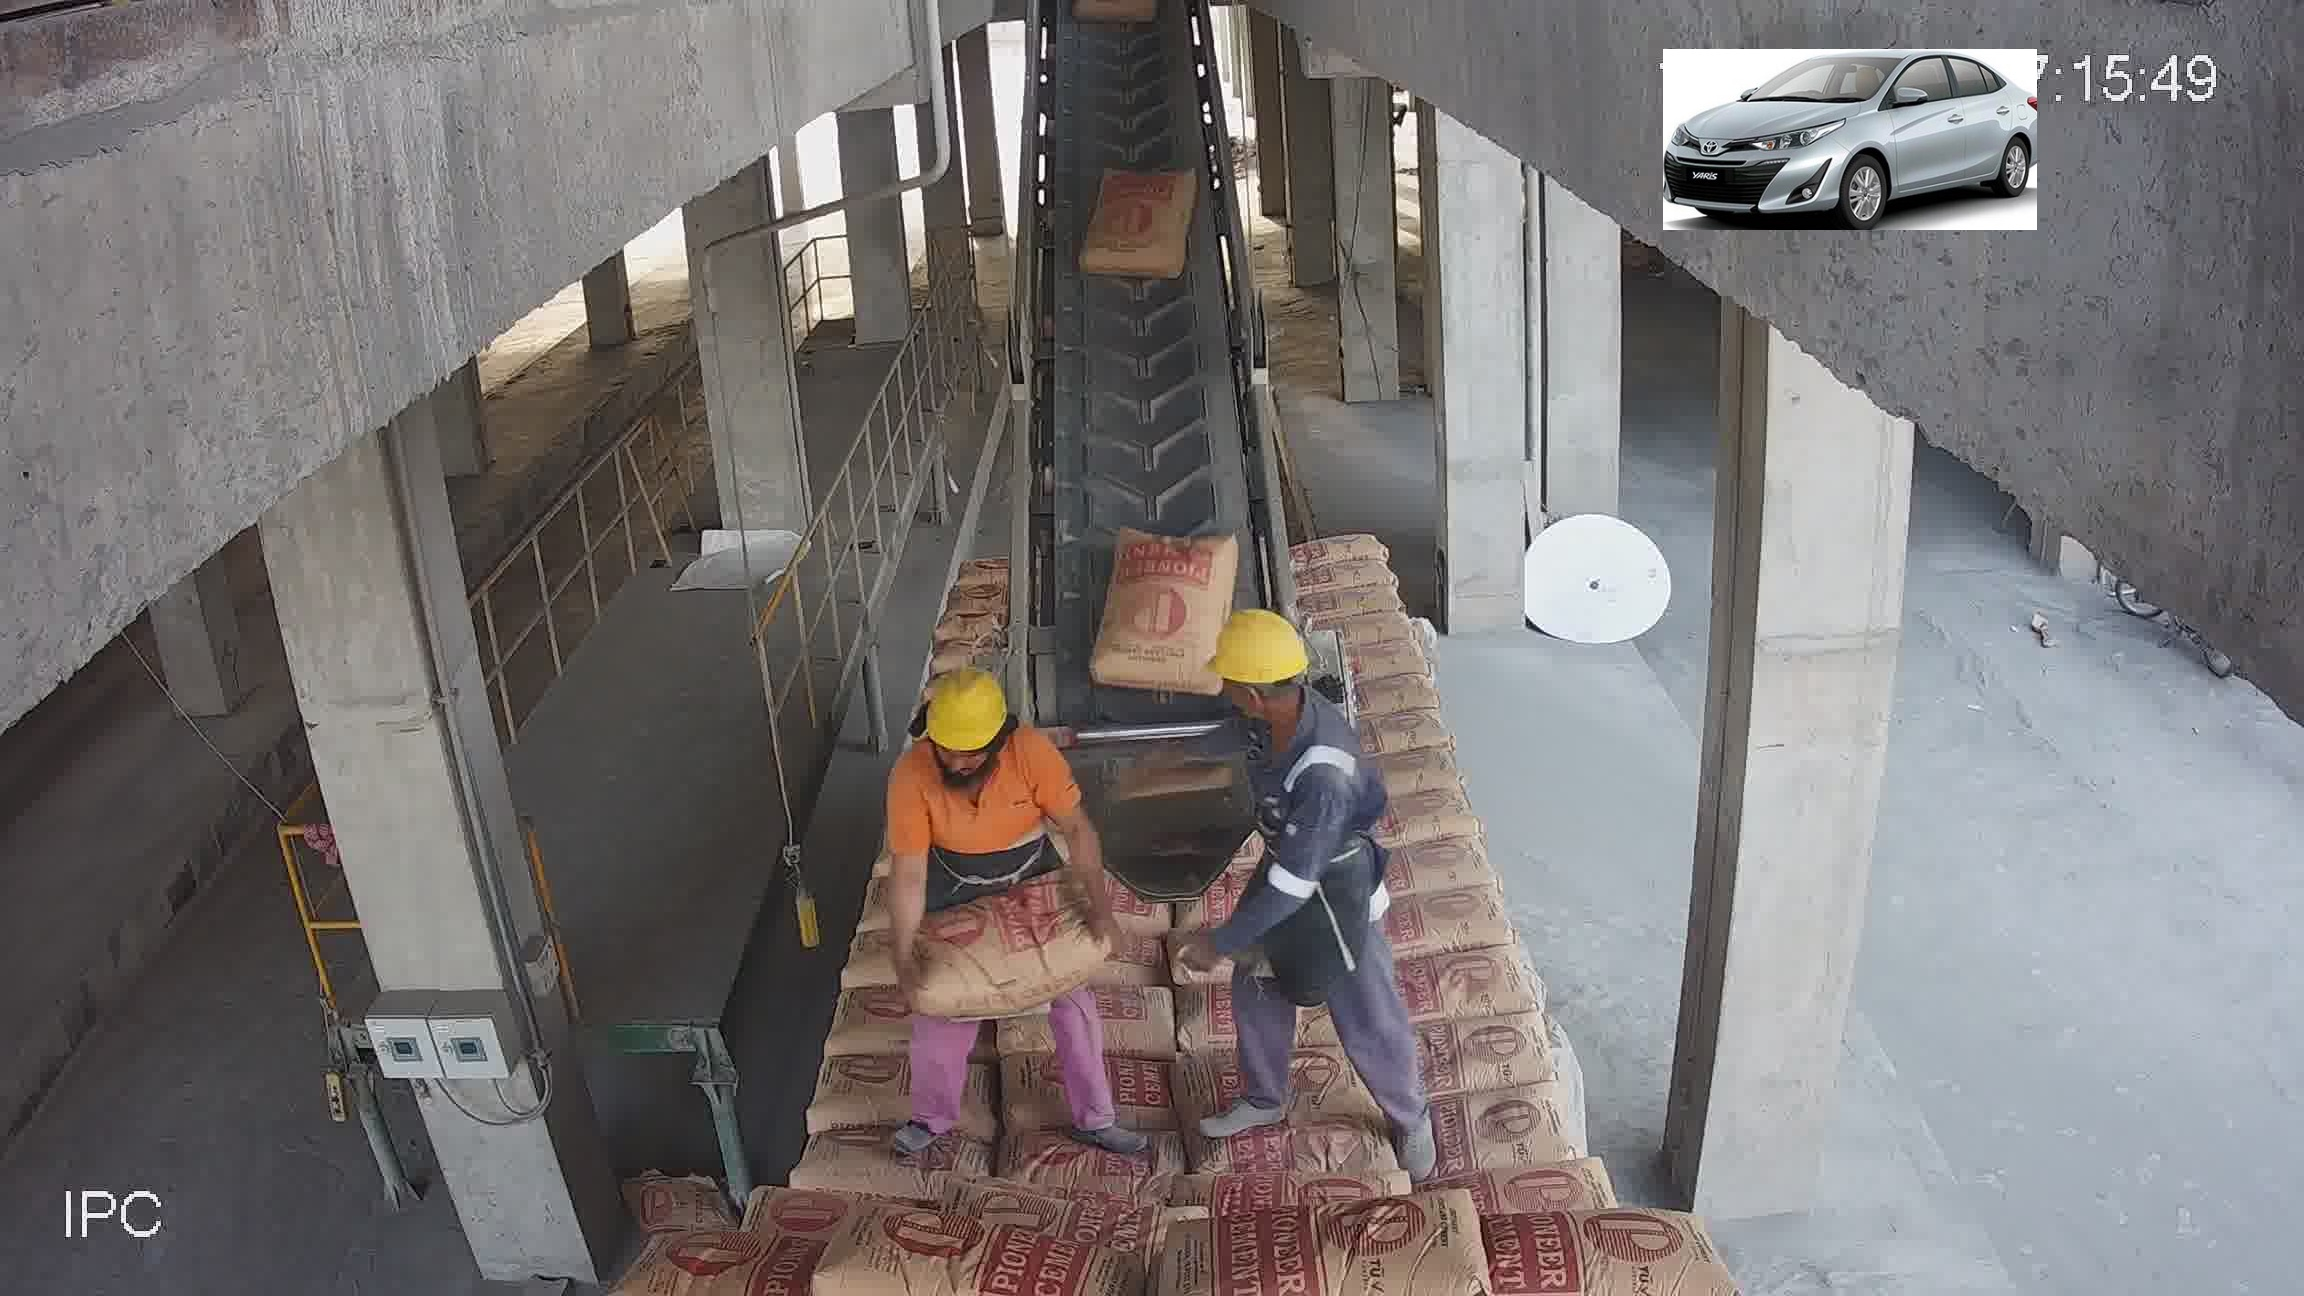bag: (1093, 525, 1231, 687), (1076, 168, 1196, 283)
bag_h: (910, 878, 1098, 1024), (1211, 1211, 1521, 1296), (1438, 1203, 1698, 1294), (820, 1225, 1106, 1294), (791, 1127, 991, 1211), (1397, 1084, 1575, 1174), (631, 1225, 851, 1296), (1397, 1014, 1570, 1103), (1176, 1051, 1361, 1133), (1375, 946, 1548, 1032), (807, 1059, 997, 1131), (1180, 1163, 1405, 1214), (1437, 1160, 1608, 1222), (1188, 1124, 1393, 1173), (1369, 824, 1484, 902), (1381, 878, 1497, 953), (1367, 775, 1465, 840), (1301, 559, 1399, 598), (1299, 540, 1393, 565)
belt: (1008, 33, 1305, 840)
